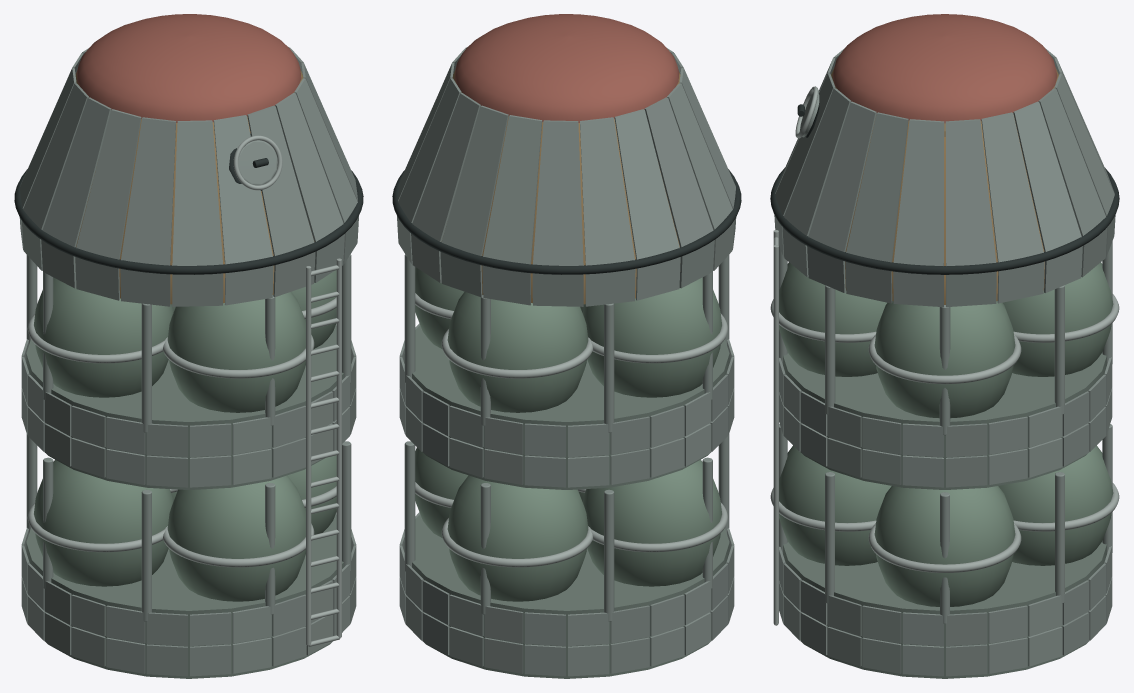
3 renders of one model, left to right at view 1: azimuth 30°, elevation 25°; view 2: azimuth 150°, elevation 25°; view 3: azimuth 270°, elevation 25°, orthographic.
Parts seen in each view (by area): view 1: Individual storage hood panels, Storage vessel structural belt, Storage vessel structural belt.001, Storage hood cap, Exposed storage bulb.003, Exposed storage bulb.007, Exposed storage bulb.002, Exposed storage bulb.006, Storage belt, Storage belt.001, Hood service gasket, Service ladder rail (+20 smaller); view 2: Individual storage hood panels, Storage vessel structural belt, Storage vessel structural belt.001, Storage hood cap, Exposed storage bulb.001, Exposed storage bulb.005, Exposed storage bulb.002, Exposed storage bulb.006, Storage belt.001, Storage belt, Hood service gasket, Exposed storage bulb (+16 smaller); view 3: Individual storage hood panels, Storage vessel structural belt, Storage vessel structural belt.001, Storage hood cap, Exposed storage bulb, Exposed storage bulb.004, Storage belt.001, Storage belt, Exposed storage bulb.001, Exposed storage bulb.003, Exposed storage bulb.005, Exposed storage bulb.007 (+17 smaller).
Part boxes in pixels (box(x1,y1,x2,y2)): Individual storage hood panels: box(19, 47, 358, 306); Storage vessel structural belt: box(21, 512, 356, 676); Storage vessel structural belt.001: box(21, 323, 356, 487); Storage hood cap: box(76, 14, 301, 122); Exposed storage bulb.003: box(167, 475, 305, 601); Exposed storage bulb.007: box(167, 292, 305, 412); Exposed storage bulb.002: box(34, 459, 172, 586); Exposed storage bulb.006: box(34, 277, 172, 397); Storage belt: box(26, 514, 351, 678); Storage belt.001: box(26, 325, 351, 489); Hood service gasket: box(14, 169, 363, 274); Service ladder rail: box(306, 266, 311, 645); Individual storage hood panels: box(397, 47, 736, 306); Storage vessel structural belt: box(399, 512, 734, 676); Storage vessel structural belt.001: box(399, 323, 734, 487); Storage hood cap: box(454, 14, 679, 122); Exposed storage bulb.001: box(447, 475, 588, 601); Exposed storage bulb.005: box(447, 292, 588, 412); Exposed storage bulb.002: box(583, 459, 721, 586); Exposed storage bulb.006: box(583, 277, 721, 397); Storage belt.001: box(404, 325, 729, 489); Storage belt: box(404, 514, 729, 678); Hood service gasket: box(392, 169, 741, 274); Exposed storage bulb: box(415, 447, 468, 537); Individual storage hood panels: box(774, 47, 1115, 307); Storage vessel structural belt: box(779, 546, 1112, 676); Storage vessel structural belt.001: box(779, 357, 1112, 487); Storage hood cap: box(832, 14, 1057, 123); Exposed storage bulb: box(874, 486, 1015, 606); Exposed storage bulb.004: box(874, 301, 1015, 418); Storage belt.001: box(783, 353, 1106, 489); Storage belt: box(783, 542, 1106, 678); Exposed storage bulb.001: box(998, 445, 1113, 565); Exposed storage bulb.003: box(779, 445, 891, 565); Exposed storage bulb.005: box(1003, 262, 1113, 376); Exposed storage bulb.007: box(779, 262, 886, 376).
Bounding box in the file's own units: 1.68 × 3.04 × 1.68.
